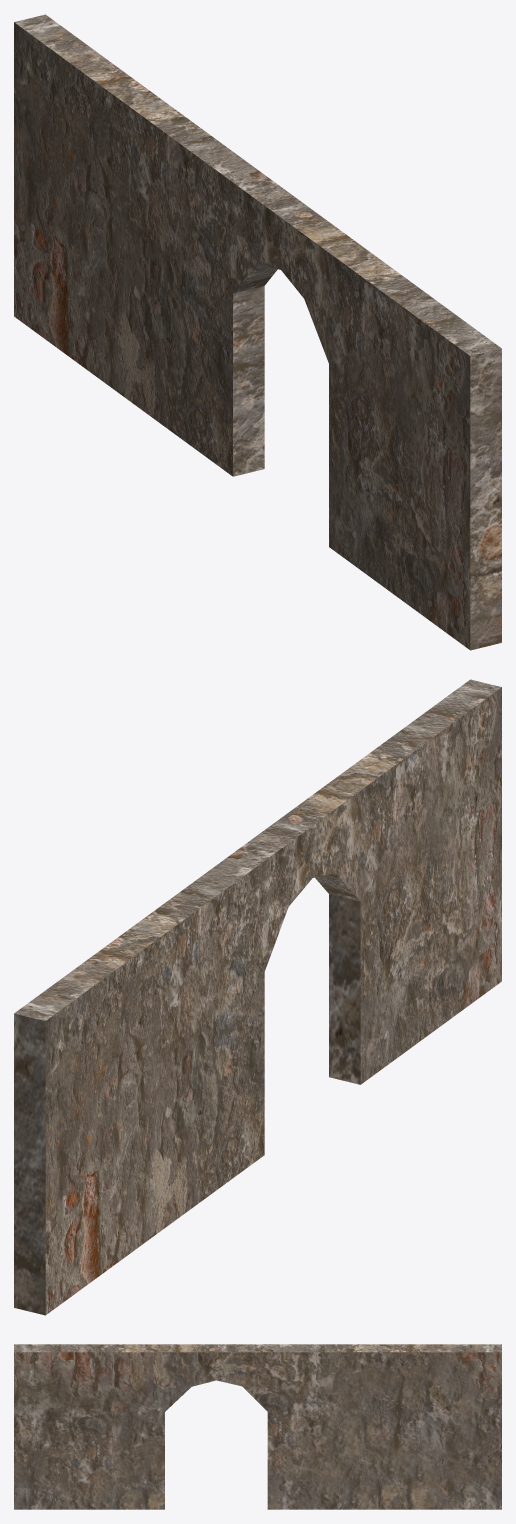
The model's file is pared_bloque_5metros_puertafinal.fbx.
3 renders of one model, top to bottom at view 1: azimuth 30°, elevation 25°; view 2: azimuth 150°, elevation 25°; view 3: azimuth 270°, elevation 25°, orthographic. The views are drawn at different scales.
Visible parts, largest first — view 1: pared.conpuerta_normal; view 2: pared.conpuerta_normal; view 3: pared.conpuerta_normal.
Boxes of the visible parts, x1,y1,x2,y2 form: pared.conpuerta_normal: (14,14,501,650); pared.conpuerta_normal: (14,679,501,1315); pared.conpuerta_normal: (14,1344,501,1509).
Bounding box in the file's own units: 40 × 356 × 1000.
